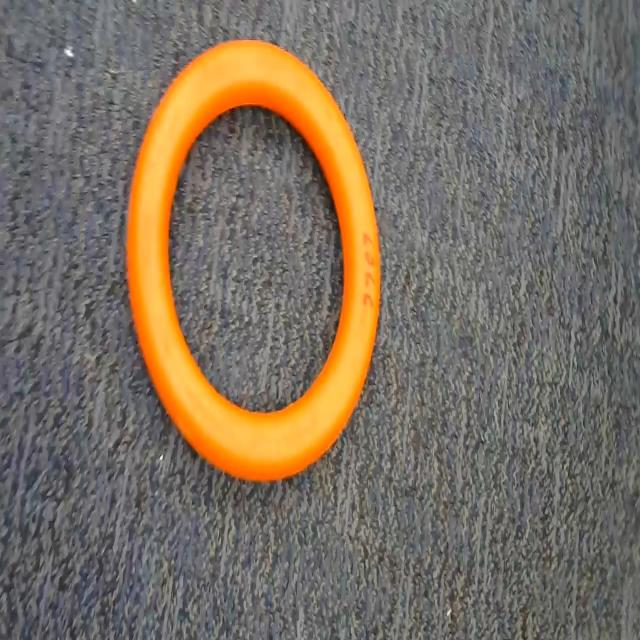note: (120, 24, 395, 488)
